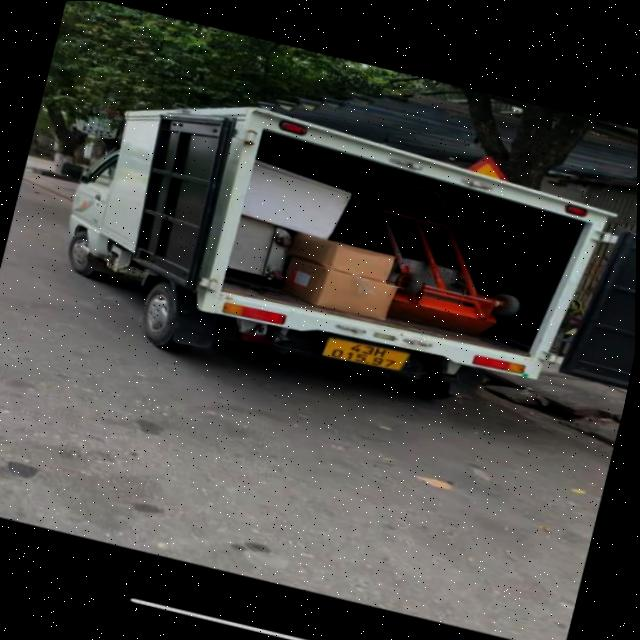car: (37, 61, 635, 450)
plate: (310, 324, 422, 385)
